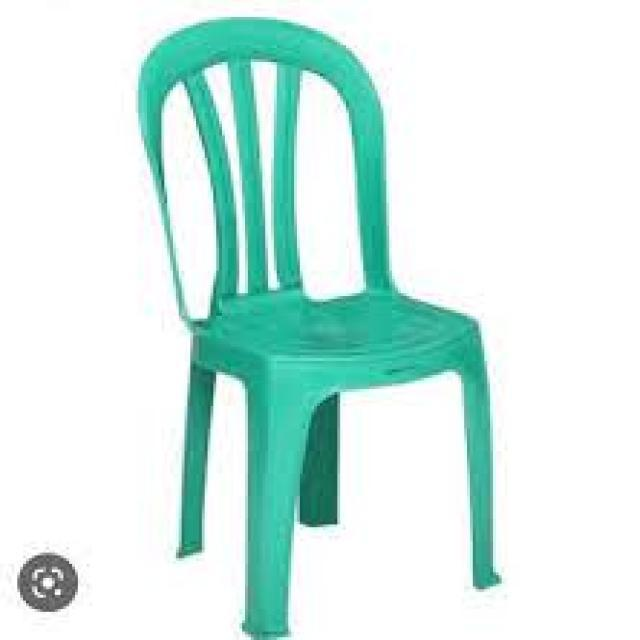chair: (135, 14, 501, 640)
